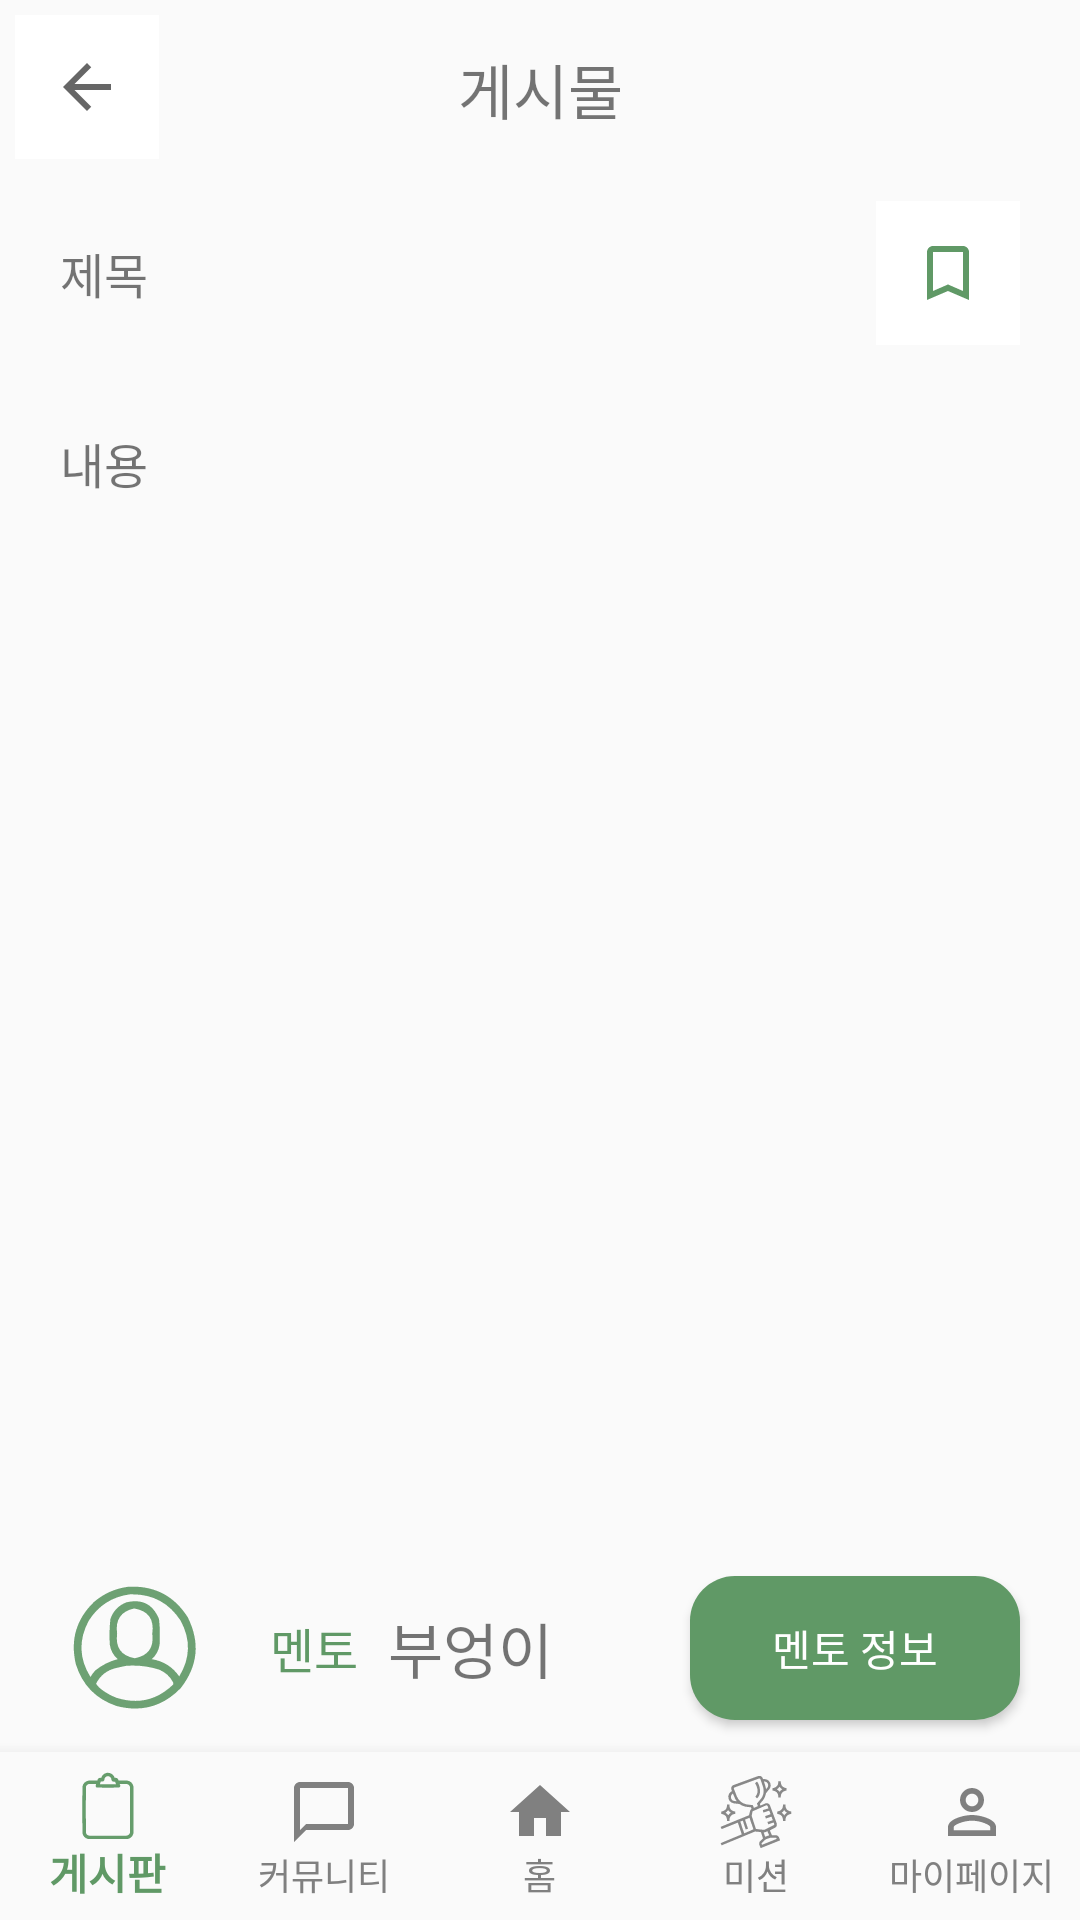

Icon bounding boxes for this 1080 x 1920 phone screenshot, format (x1, y1, x2, y2):
user profile: (73, 1586, 196, 1709)
뒤로가기 버튼: (63, 63, 111, 111)
북마크 버튼: (927, 246, 969, 300)
